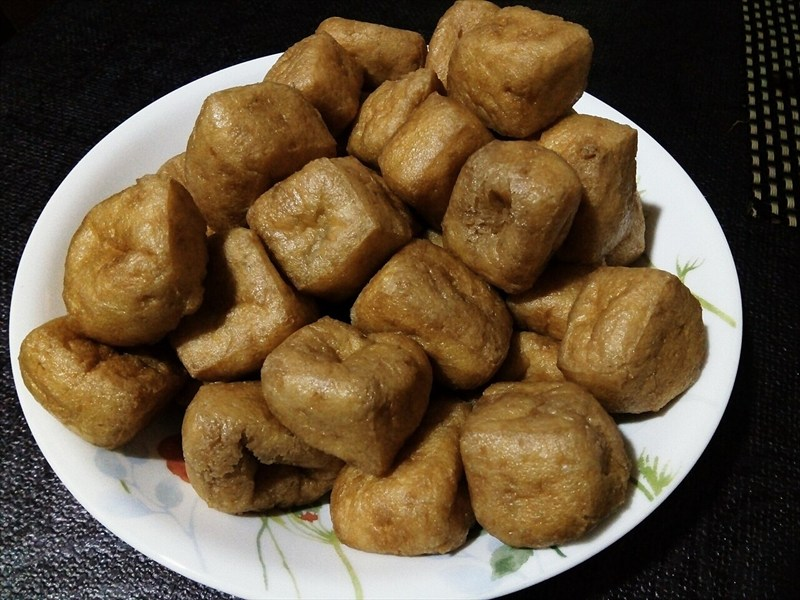Tahu Goreng: (16, 54, 738, 586)
